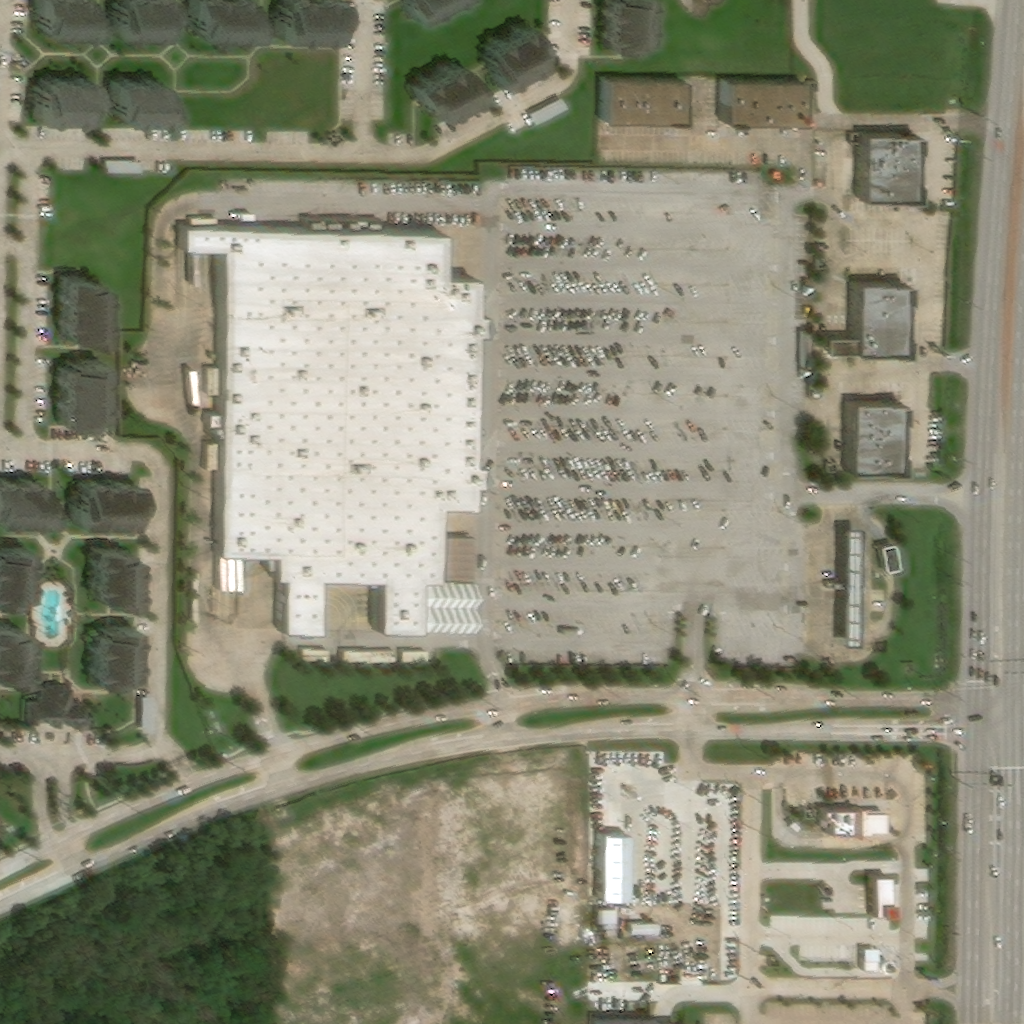minor_damage: (823, 275, 910, 364), (858, 126, 920, 205), (848, 395, 906, 477)
no_damage: (183, 221, 479, 635), (412, 54, 482, 120), (482, 16, 544, 87), (602, 73, 684, 125), (723, 77, 805, 127), (73, 471, 141, 530), (57, 268, 108, 344), (57, 351, 107, 427), (34, 67, 94, 127), (86, 616, 138, 685), (91, 537, 140, 610), (112, 68, 171, 126), (27, 682, 92, 731), (275, 0, 344, 44), (0, 470, 51, 528), (190, 0, 257, 42), (840, 523, 861, 643), (112, 0, 171, 41), (601, 0, 650, 49), (820, 803, 887, 838), (36, 0, 95, 39), (0, 536, 31, 607), (0, 615, 31, 685), (599, 827, 628, 901), (405, 0, 462, 24), (595, 1009, 680, 1023), (530, 97, 569, 126), (868, 870, 892, 915), (142, 695, 156, 735), (880, 542, 900, 570), (860, 953, 892, 969), (629, 922, 662, 937), (106, 161, 144, 174), (598, 906, 617, 923)
